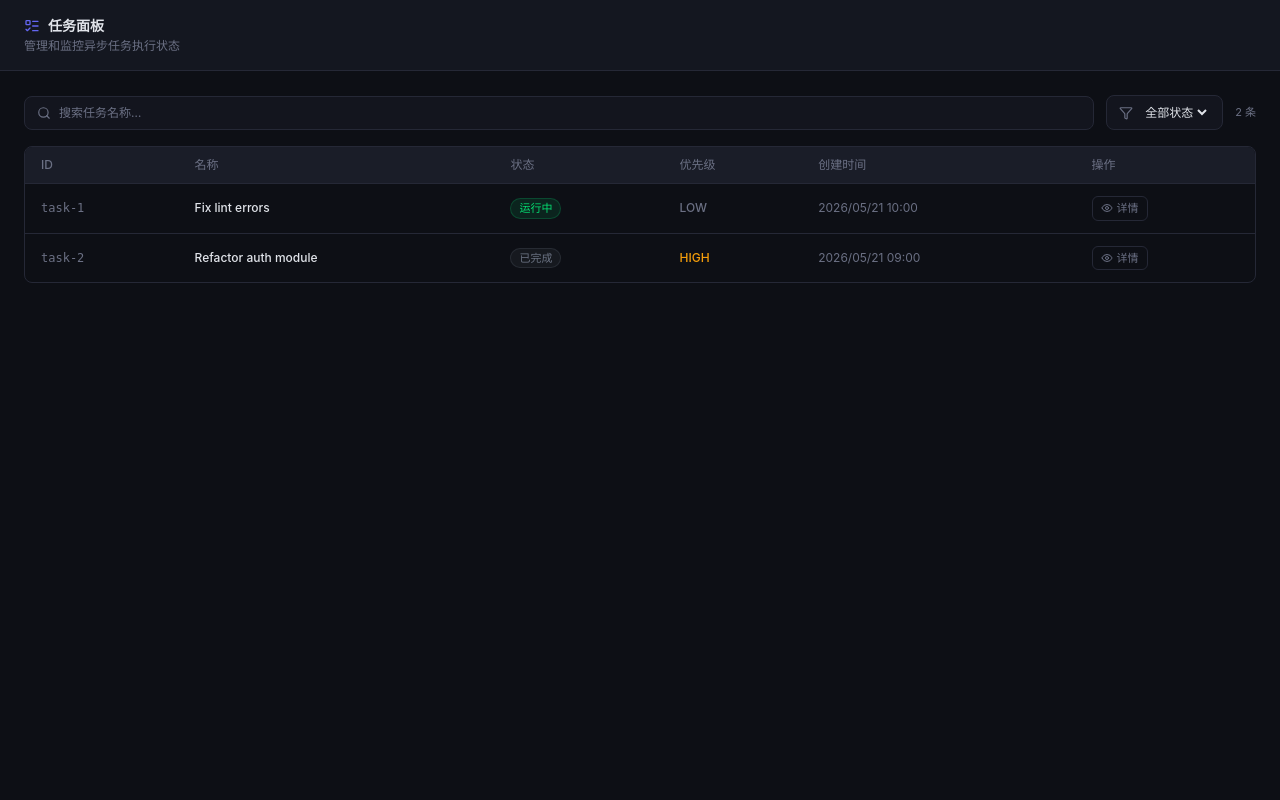
Scenario: TaskPanelView › opens detail modal when detail button clicked
Expected: the text "Fix lint errors" is shown, [179, 184, 494, 233]
Click the button "详情" in the row of "task-1" at (1120, 208), box [1092, 196, 1148, 221]
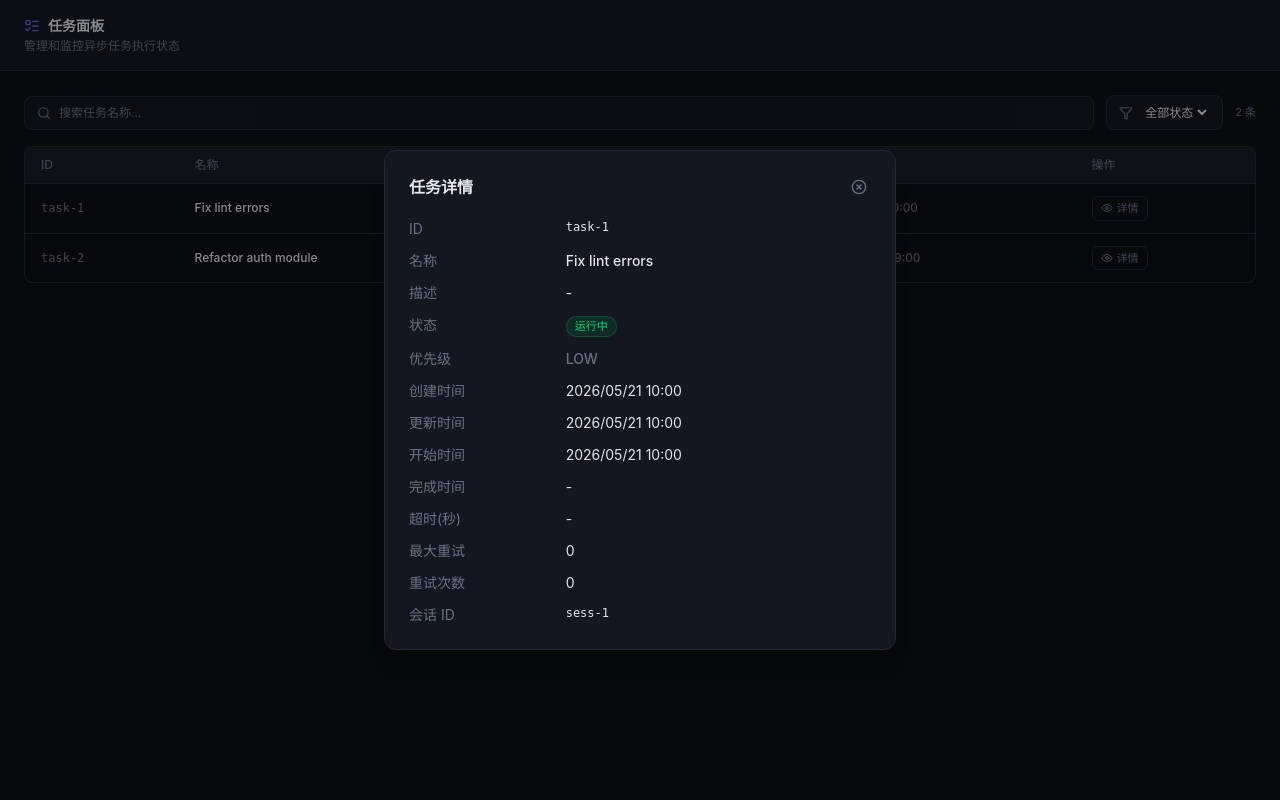
Expected: the heading "任务详情" is shown, [409, 175, 473, 199]
